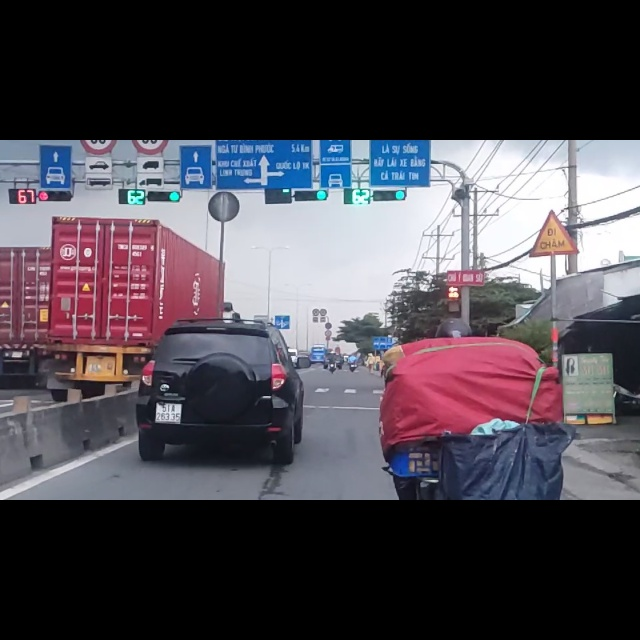bien_chi_dan: (528, 123, 578, 208)
